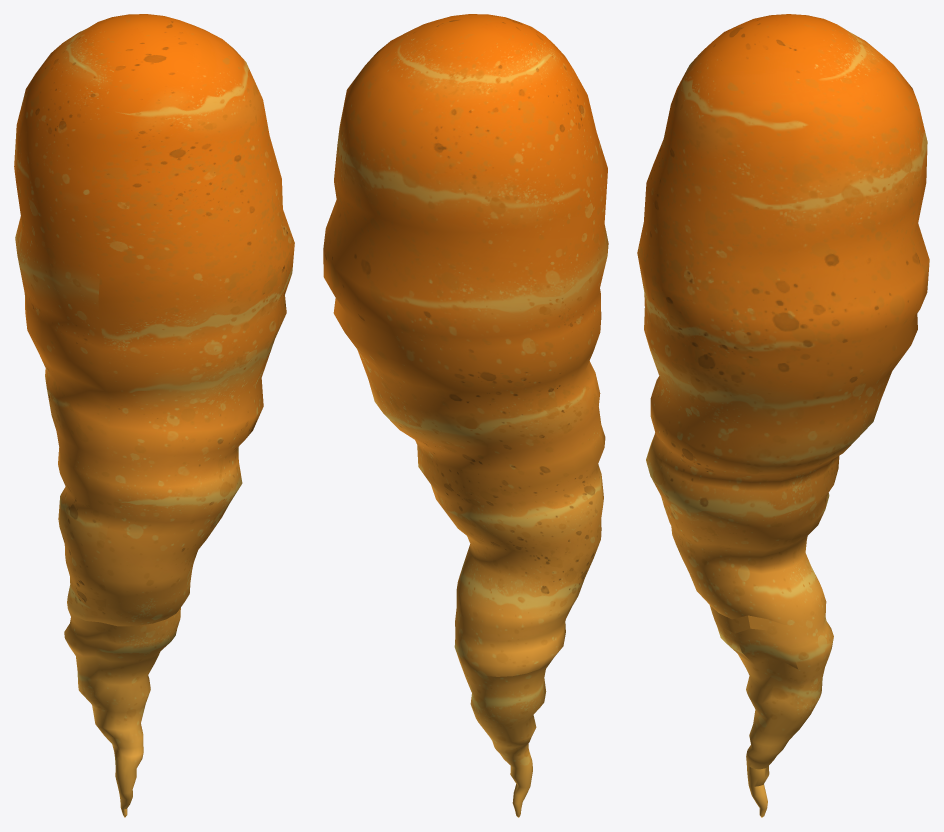
Rendered from carrot2.fbx.
The picture shows the model from 3 angles, left to right: view 1: azimuth 30°, elevation 25°; view 2: azimuth 150°, elevation 25°; view 3: azimuth 270°, elevation 25°; orthographic projection. The views are drawn at different scales.
Parts seen in each view (by area): view 1: pSphere4; view 2: pSphere4; view 3: pSphere4.
Boxes of the visible parts, bbox=[...] form: pSphere4: bbox=[14, 14, 294, 817]; pSphere4: bbox=[323, 14, 608, 817]; pSphere4: bbox=[637, 14, 929, 817].
Bounding box in the file's own units: 29.11 × 89.17 × 29.32.
